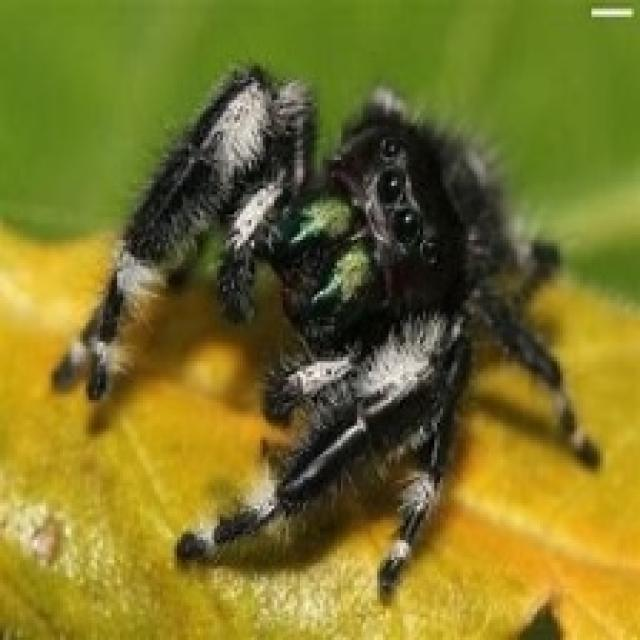Non venomous spider: (9, 39, 596, 616)
